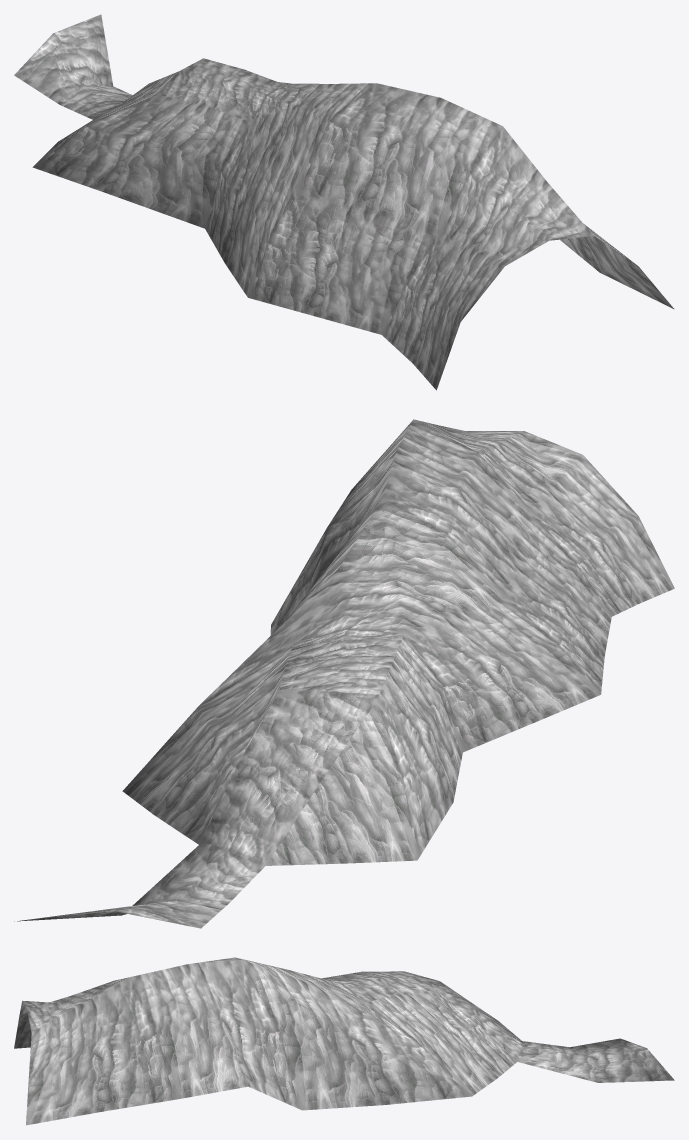
File: SWORDLIGHT20_PS-AREA03_46.fbx
The picture shows the model from 3 angles, top to bottom: view 1: azimuth 30°, elevation 25°; view 2: azimuth 150°, elevation 25°; view 3: azimuth 270°, elevation 25°; orthographic projection. The views are drawn at different scales.
Parts seen in each view (by area): view 1: SWORDLIGHT20_PS-AREA03_46; view 2: SWORDLIGHT20_PS-AREA03_46; view 3: SWORDLIGHT20_PS-AREA03_46.
Boxes of the visible parts, <box> form: SWORDLIGHT20_PS-AREA03_46: <box>14,14,674,390</box>; SWORDLIGHT20_PS-AREA03_46: <box>14,419,674,928</box>; SWORDLIGHT20_PS-AREA03_46: <box>14,957,674,1125</box>.
Size of the model in its own units: 155850 by 81751 by 364207.
Materials: 1 (1 with a texture image).
